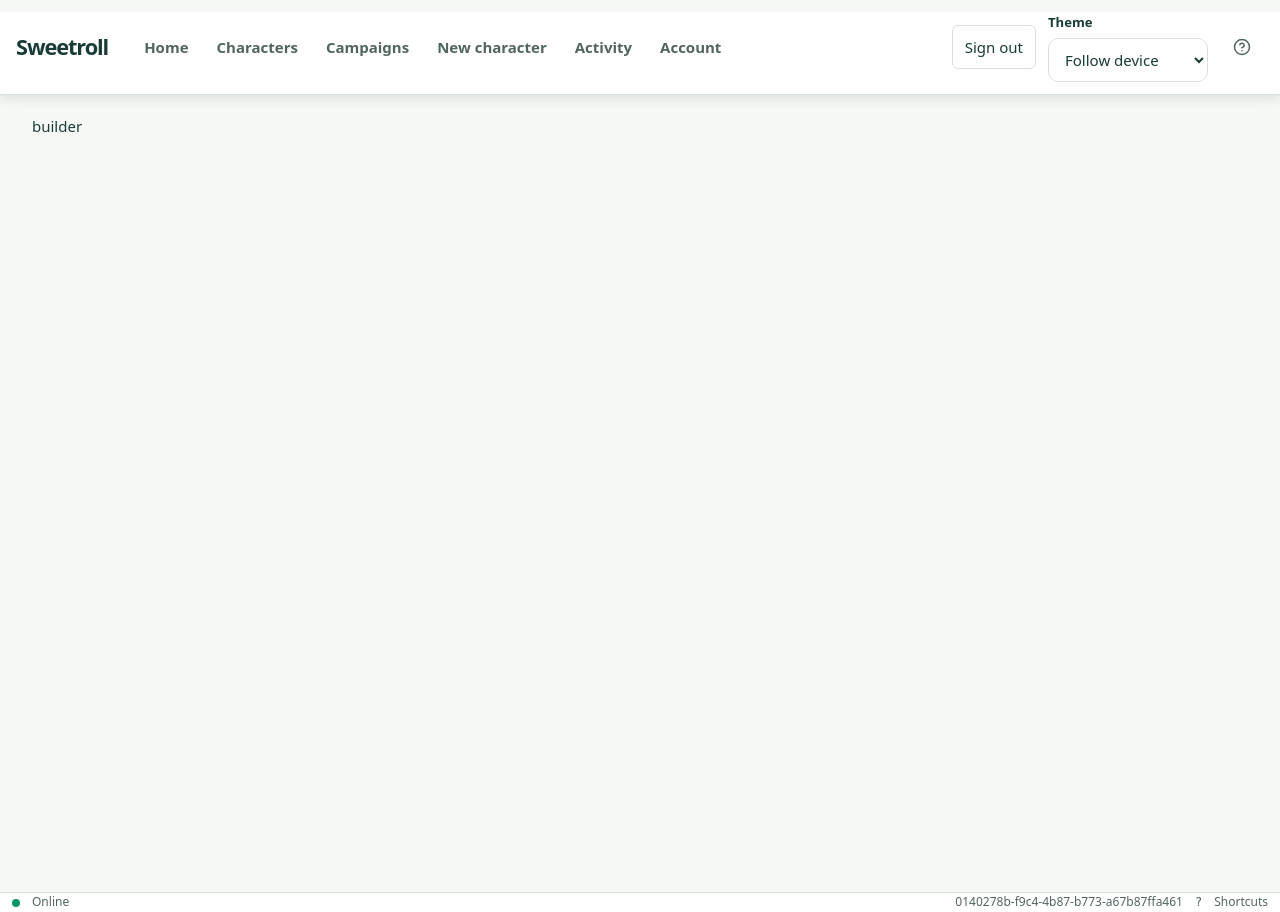
AppShell › cancels and clears account-scoped queries on sign-out
Click the button "Sign out": click(994, 47) [952,25,1036,69]
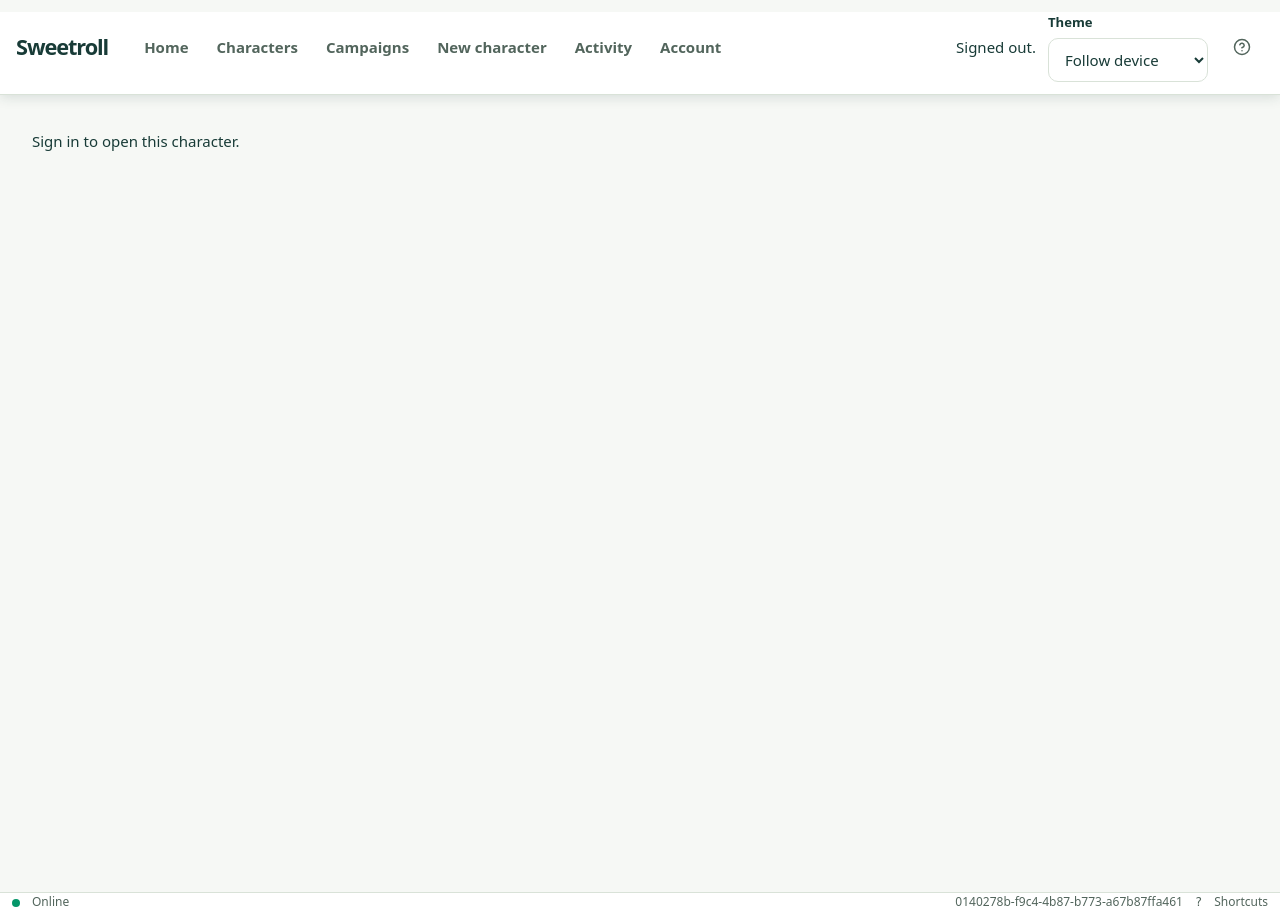
Expected: the text "Signed out." is shown, [956,36,1036,59]
